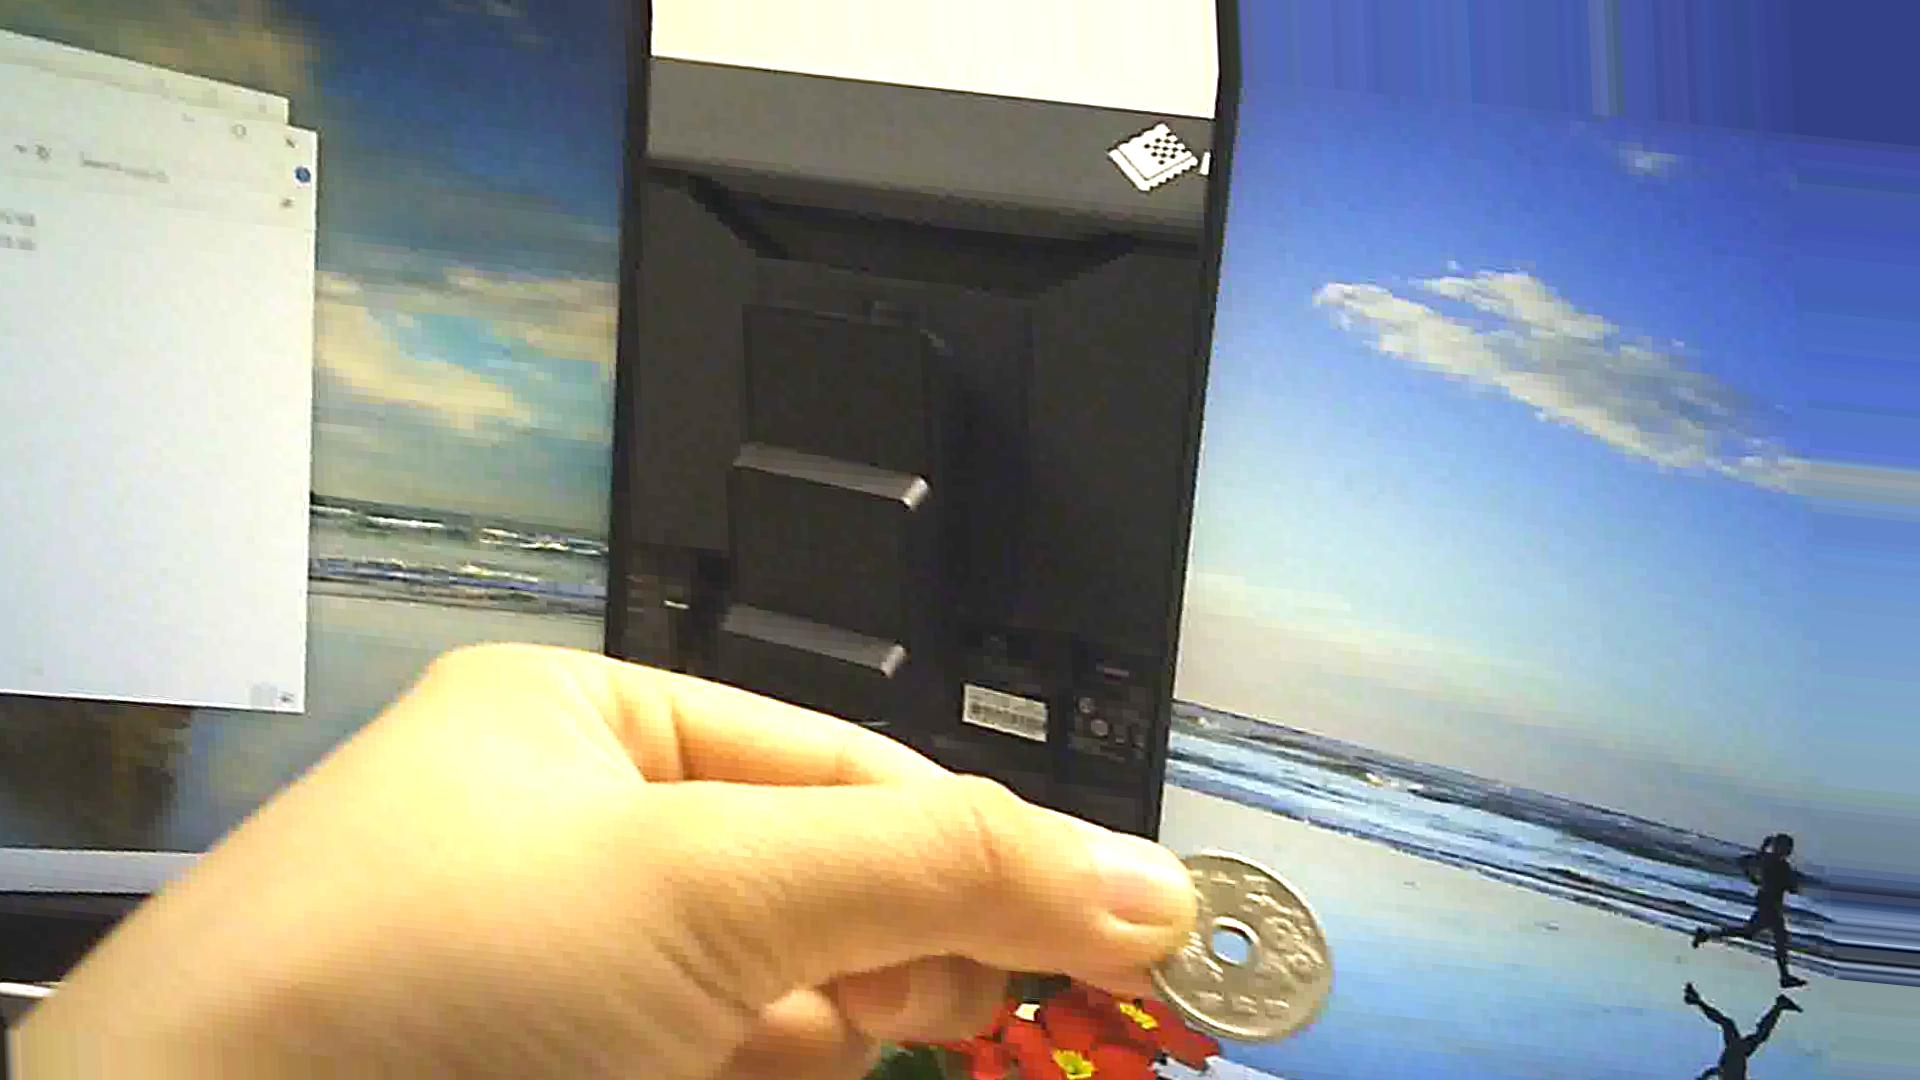50 Yen: (1125, 847, 1337, 1038)
